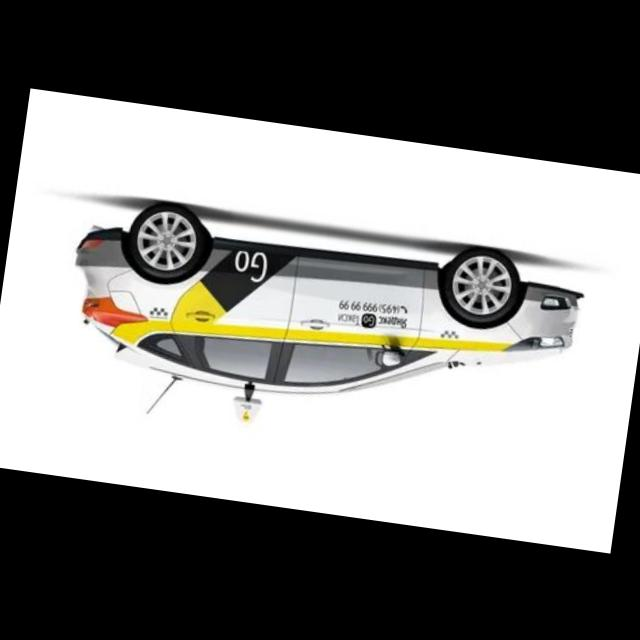taxi: (55, 189, 590, 474)
